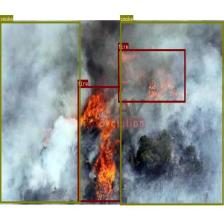fire: (77, 86, 121, 202), (118, 49, 185, 102)
smoke: (120, 21, 223, 205), (0, 21, 80, 203)
